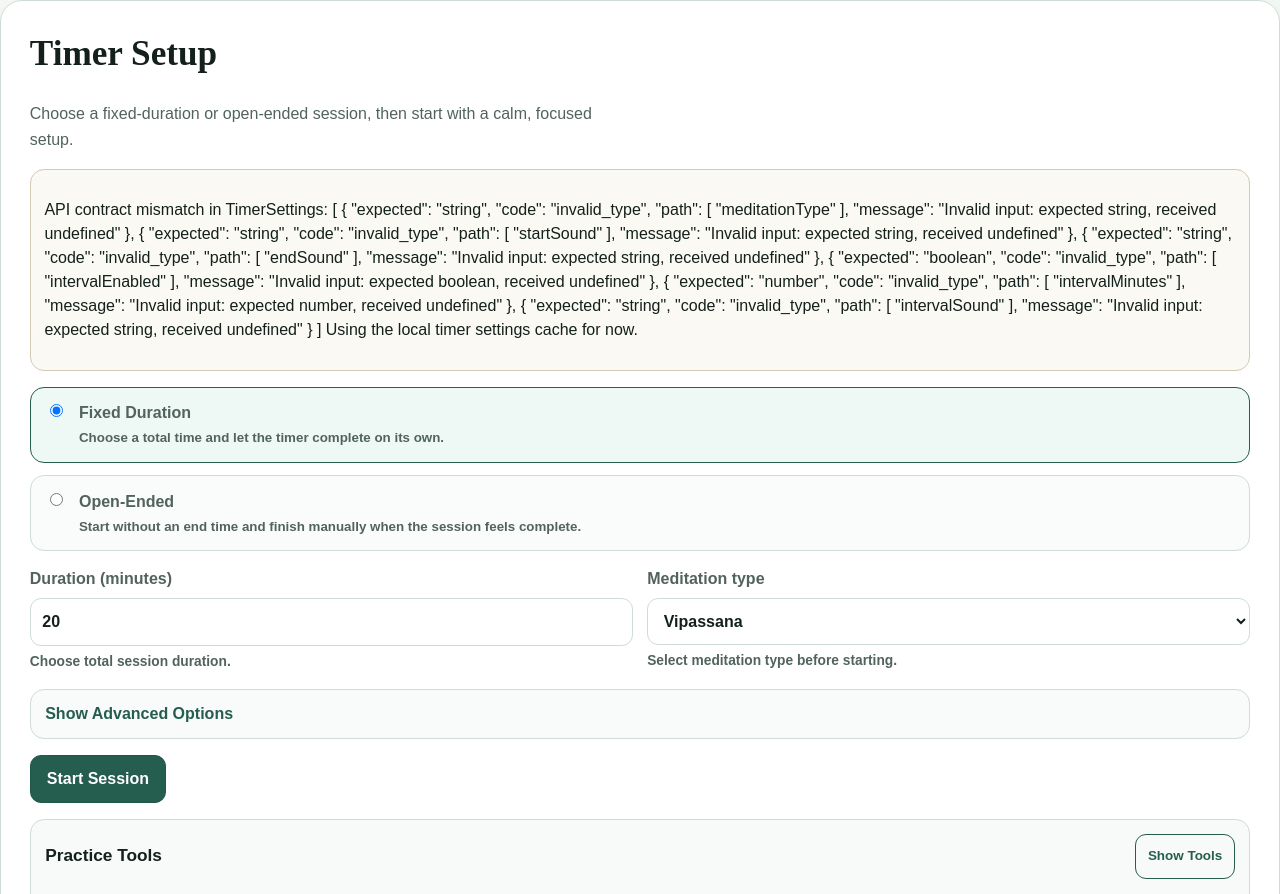
CustomPlayManager UX › shows an explicit integration warning when backend media data is invalid
Click the button "Show Tools": {"x": 1185, "y": 856} [1135,834,1235,879]
(page scrolled)
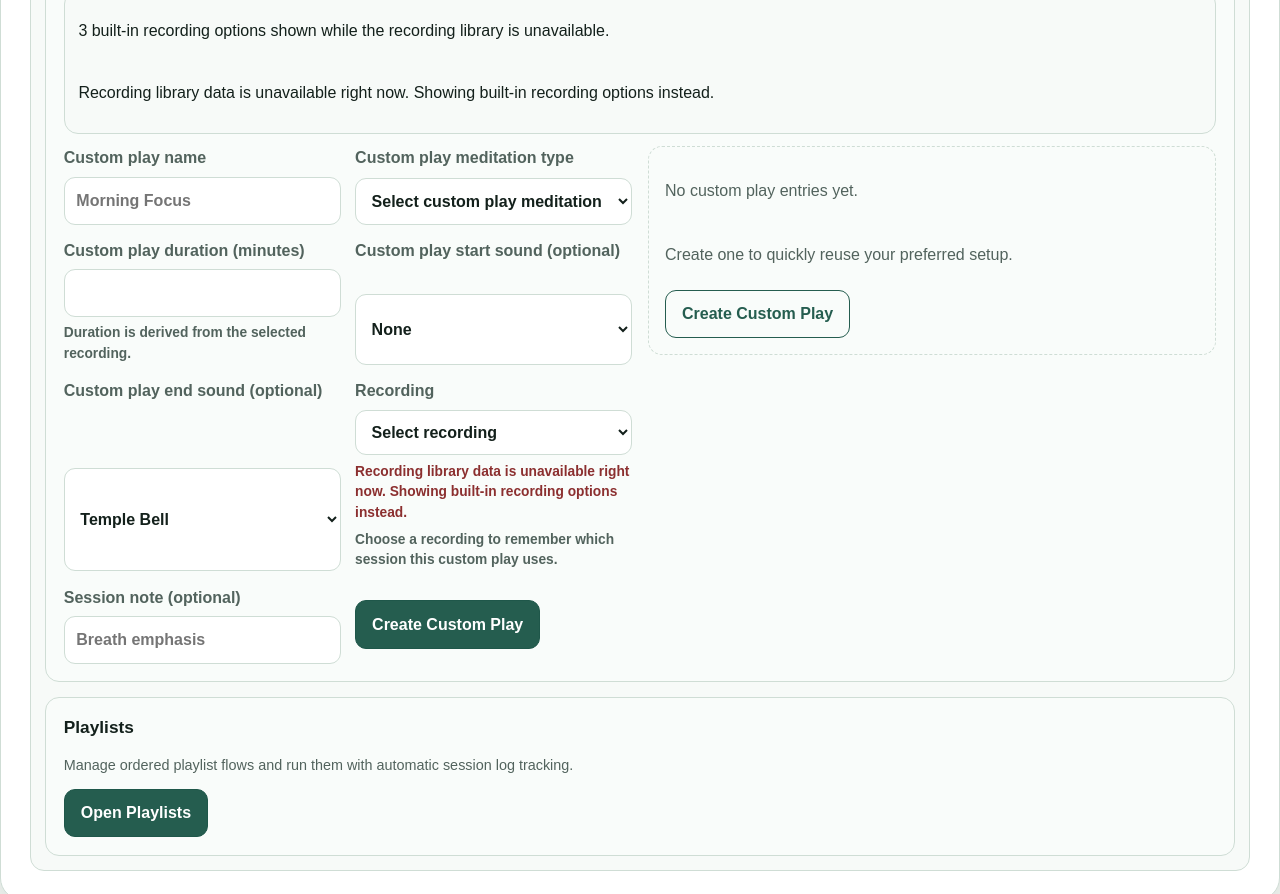
Check: the text "built-in recording options shown while the recording library is unavailable" is shown, box [78,22,609,39]
Check: the 1st text "Recording library data is unavailable right now" is shown, box [78,84,714,101]
Check: the text "Choose a recording to remember which session this custom play uses" is shown, box [355,532,614,567]
